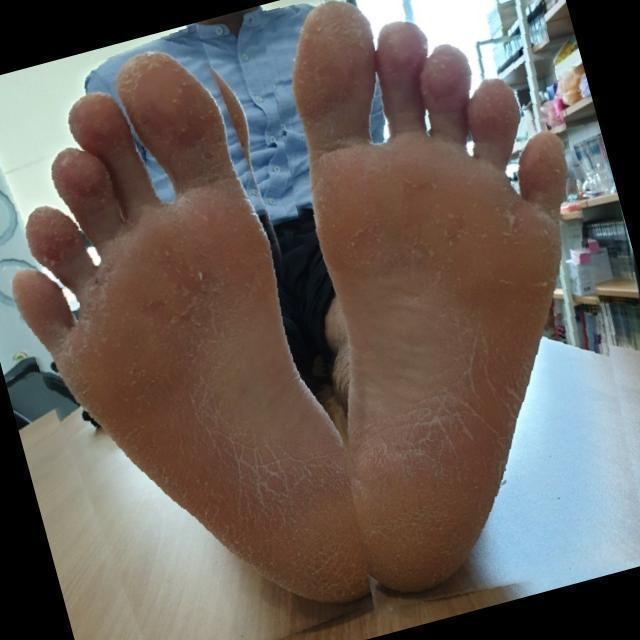No_Shoes: (292, 10, 580, 593), (45, 22, 272, 613)
